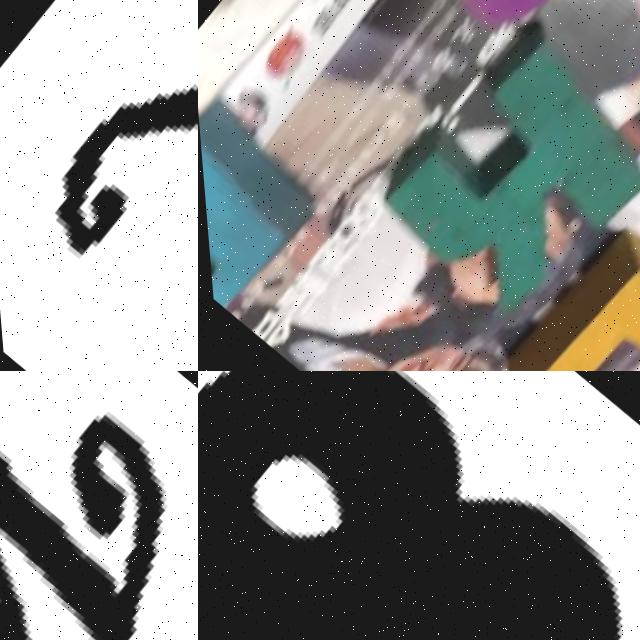8: (198, 371, 640, 640)
K: (353, 22, 640, 325), (55, 0, 198, 371)
L: (461, 206, 640, 371)
S: (319, 0, 640, 62)
W: (0, 387, 170, 640)
